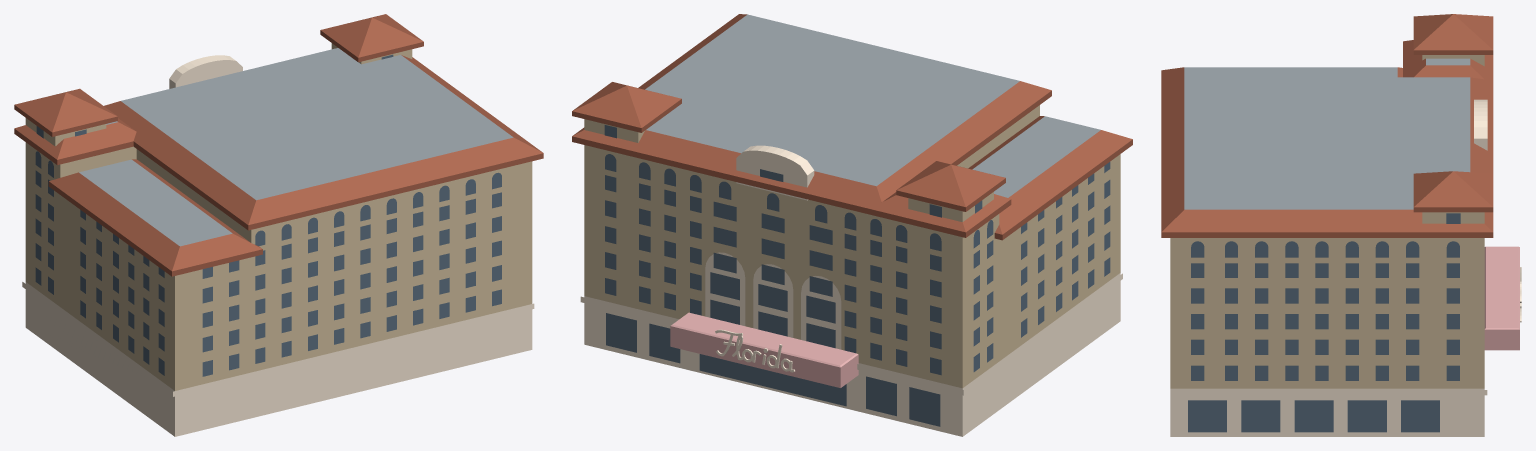
File: jax-florida-theatre.glb
3 renders of one model, left to right at view 1: azimuth 30°, elevation 25°; view 2: azimuth 150°, elevation 25°; view 3: azimuth 270°, elevation 25°, orthographic. The views are drawn at different scales.
Parts seen in each view (by area): view 1: Florida Theatre; view 2: Florida Theatre; view 3: Florida Theatre.
Part boxes in pixels (x1=…): Florida Theatre: x1=14, y1=14, x2=543, y2=436; Florida Theatre: x1=572, y1=14, x2=1132, y2=436; Florida Theatre: x1=1161, y1=14, x2=1521, y2=436.
Bounding box in the file's own units: 50.9 × 31.4 × 40.58.
